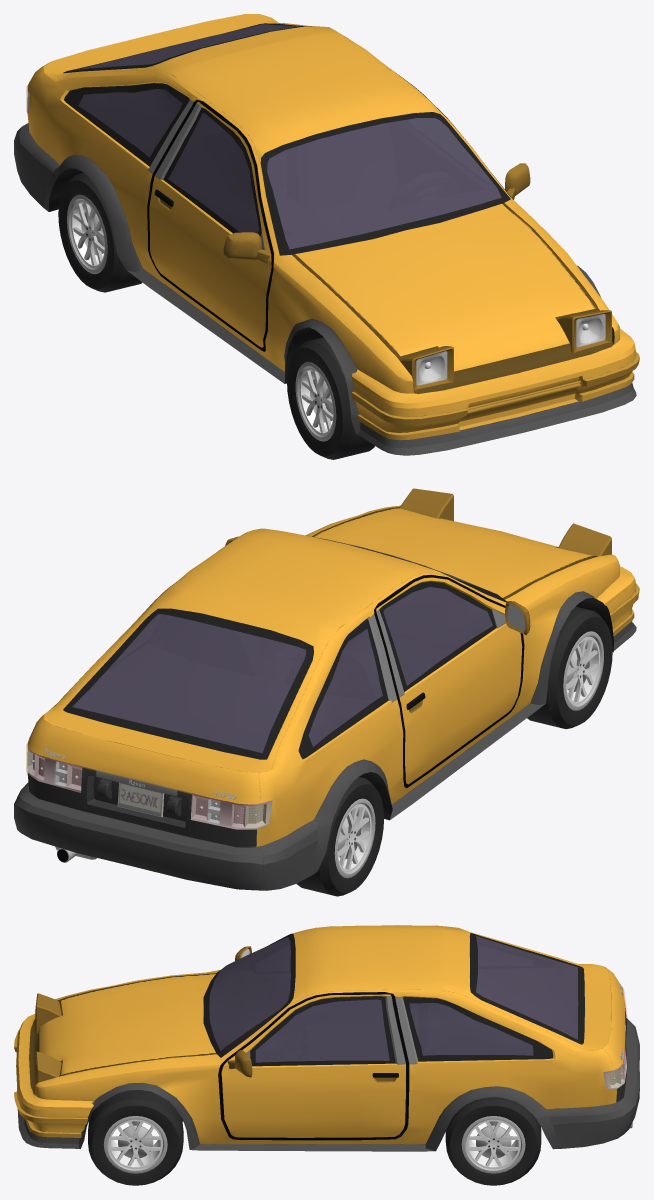
3 views of the same model, one above another, from view 1: azimuth 30°, elevation 25°; view 2: azimuth 150°, elevation 25°; view 3: azimuth 270°, elevation 25° (orthographic). The views are drawn at different scales.
Visible parts, largest first — view 1: Raven_Body_6, Raven_Windows_8, Raven_FR_Wheel_3, Raven_RR_Wheel_4, Raven_FLIghts_10, Raven_Mirrors_12, Raven_Chassis_7, Raven_Details_11; view 2: Raven_Body_6, Raven_Windows_8, Raven_FR_Wheel_3, Raven_RR_Wheel_4, Raven_RLights_13, Raven_FLIghts_10, Raven_Details_11, Raven_Chassis_7, Raven_Mirrors_12; view 3: Raven_Body_6, Raven_Windows_8, Raven_FL_Wheel_2, Raven_RL_Wheel_5, Raven_FLIghts_10, Raven_Details_11, Raven_Mirrors_12, Raven_RLights_13.
Boxes of the visible parts, x1,y1,x2,y2 form: Raven_Body_6: (14,14,639,455); Raven_Windows_8: (63,23,510,255); Raven_FR_Wheel_3: (287,337,374,459); Raven_RR_Wheel_4: (58,173,142,292); Raven_FLIghts_10: (399,310,611,390); Raven_Mirrors_12: (223,163,530,263); Raven_Chassis_7: (49,168,323,383); Raven_Details_11: (81,189,333,422); Raven_Body_6: (14,505,639,890); Raven_Windows_8: (63,536,506,759); Raven_FR_Wheel_3: (527,606,612,728); Raven_RR_Wheel_4: (296,777,383,896); Raven_RLights_13: (27,748,272,829); Raven_FLIghts_10: (399,488,611,556); Raven_Details_11: (45,648,589,862); Raven_Chassis_7: (359,598,613,820); Raven_Mirrors_12: (225,536,530,634); Raven_Body_6: (14,925,639,1151); Raven_Windows_8: (203,933,584,1066); Raven_FL_Wheel_2: (88,1090,183,1185); Raven_RL_Wheel_5: (445,1097,541,1185); Raven_FLIghts_10: (35,993,61,1083); Raven_Details_11: (118,984,632,1158); Raven_Mirrors_12: (227,946,252,1077); Raven_RLights_13: (603,1047,626,1089).
Bounding box in the file's own units: 1.87 × 1.38 × 4.25.
Materials: 7 (4 with a texture image).
